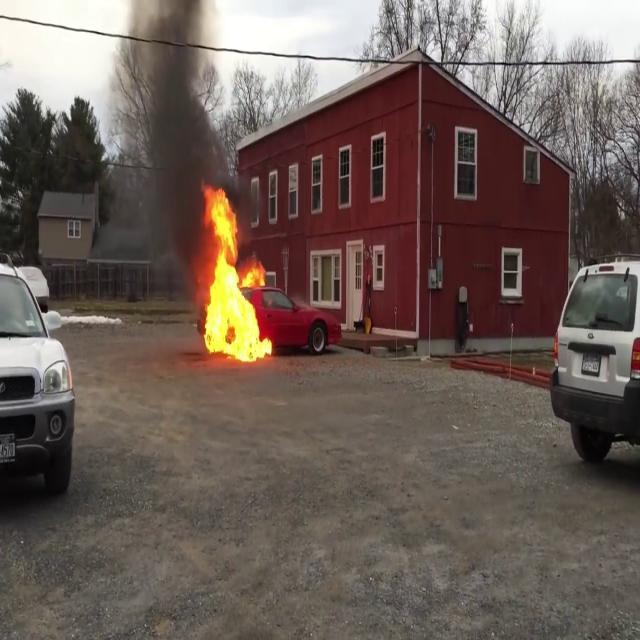Fire: (199, 175, 273, 364)
Smoke: (106, 0, 266, 305)
